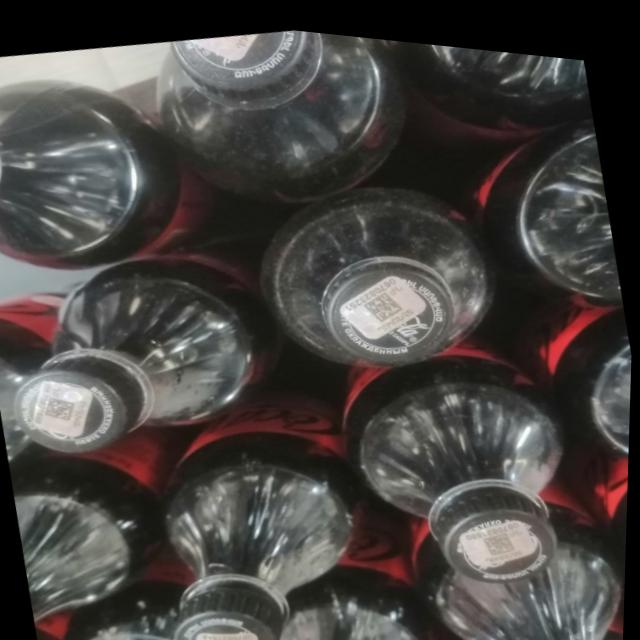datamatrix: (361, 278, 408, 319), (41, 390, 83, 427), (484, 517, 521, 550), (215, 630, 249, 640)
